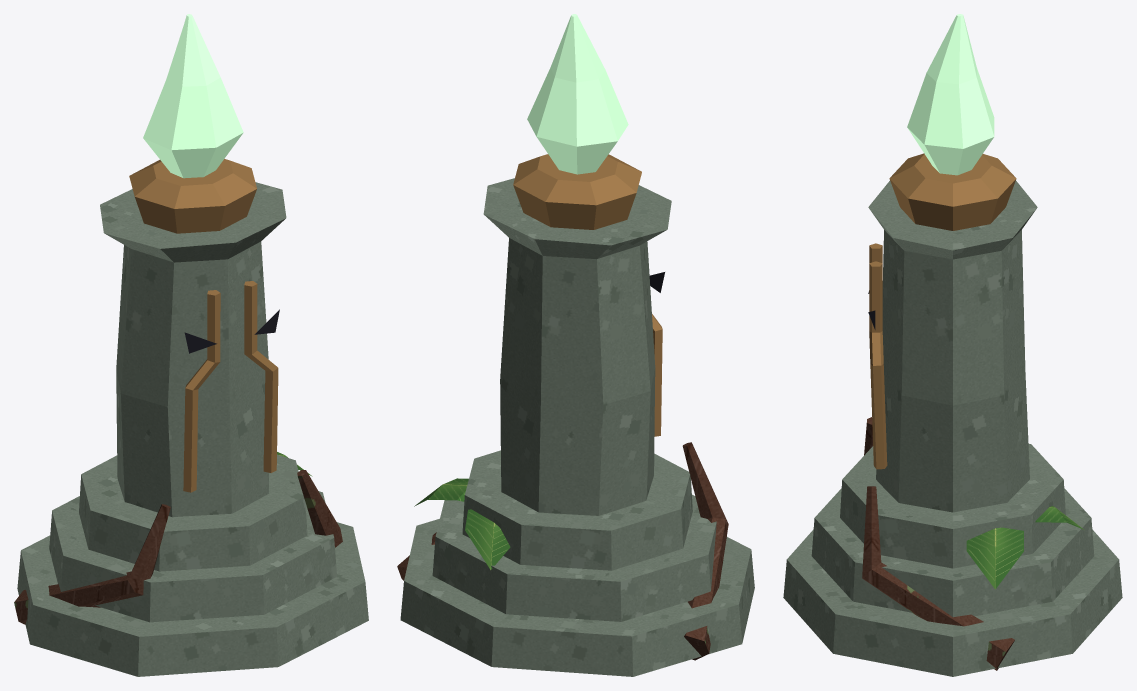
File: shrine.glb
3 renders of one model, left to right at view 1: azimuth 30°, elevation 25°; view 2: azimuth 150°, elevation 25°; view 3: azimuth 270°, elevation 25°, orthographic.
Parts seen in each view (by area): view 1: CarvedBase; view 2: CarvedBase; view 3: CarvedBase.
Boxes of the visible parts, box(x1,y1,x2,y2) form: CarvedBase: box(14, 14, 368, 676); CarvedBase: box(397, 14, 754, 676); CarvedBase: box(783, 14, 1122, 676).
Size of the model in its own units: 1.06 by 1.84 by 0.96.
6 materials, 3 textured.
